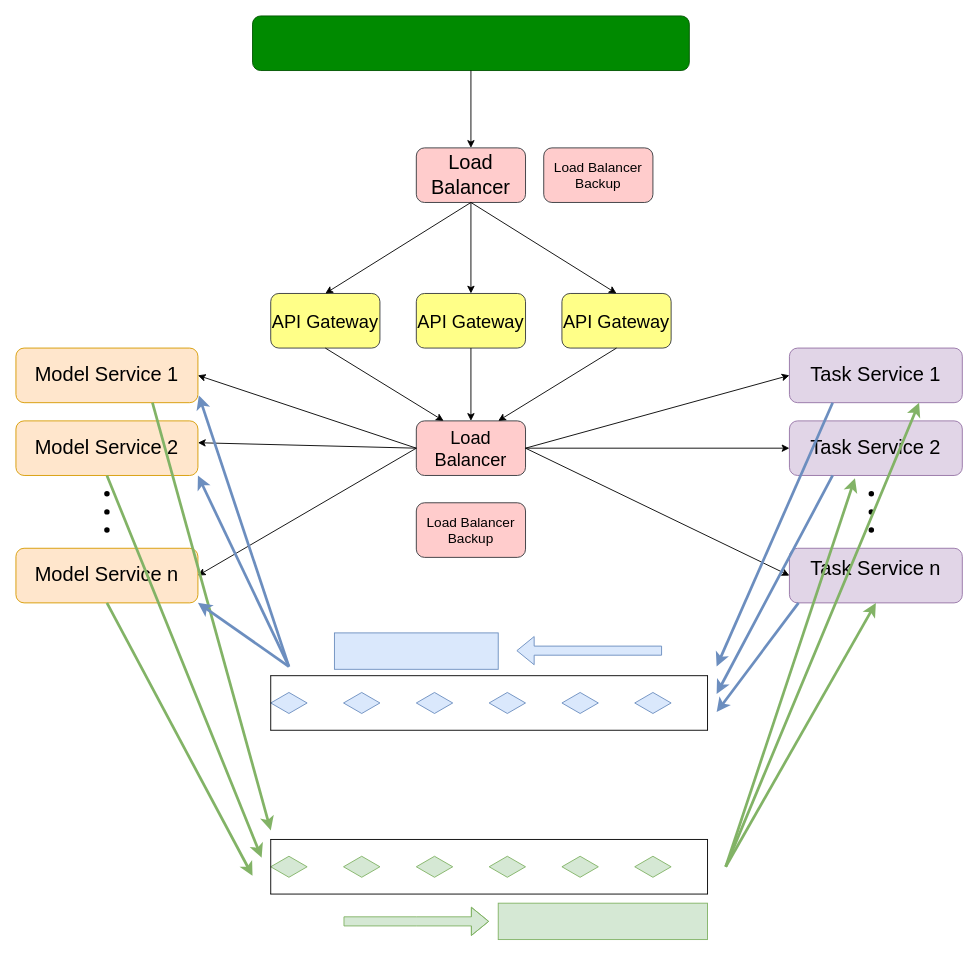
Image size: 978x956. Some labels were removed from this diagram. The centre of each missing label's shape, as x and y in pixels:
"CLIENTS" goes at point (470, 43).
"Estimate Completed Topic" goes at point (602, 921).
"Task Created Topic" goes at point (416, 650).
